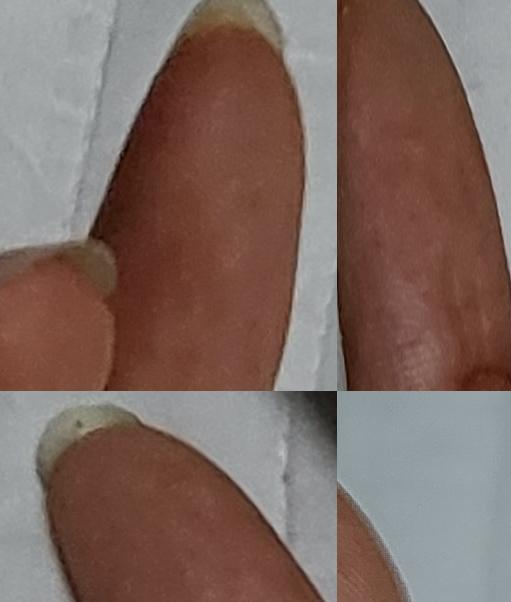Fingerprints: (90, 20, 308, 391), (337, 1, 511, 390), (46, 424, 325, 602)
